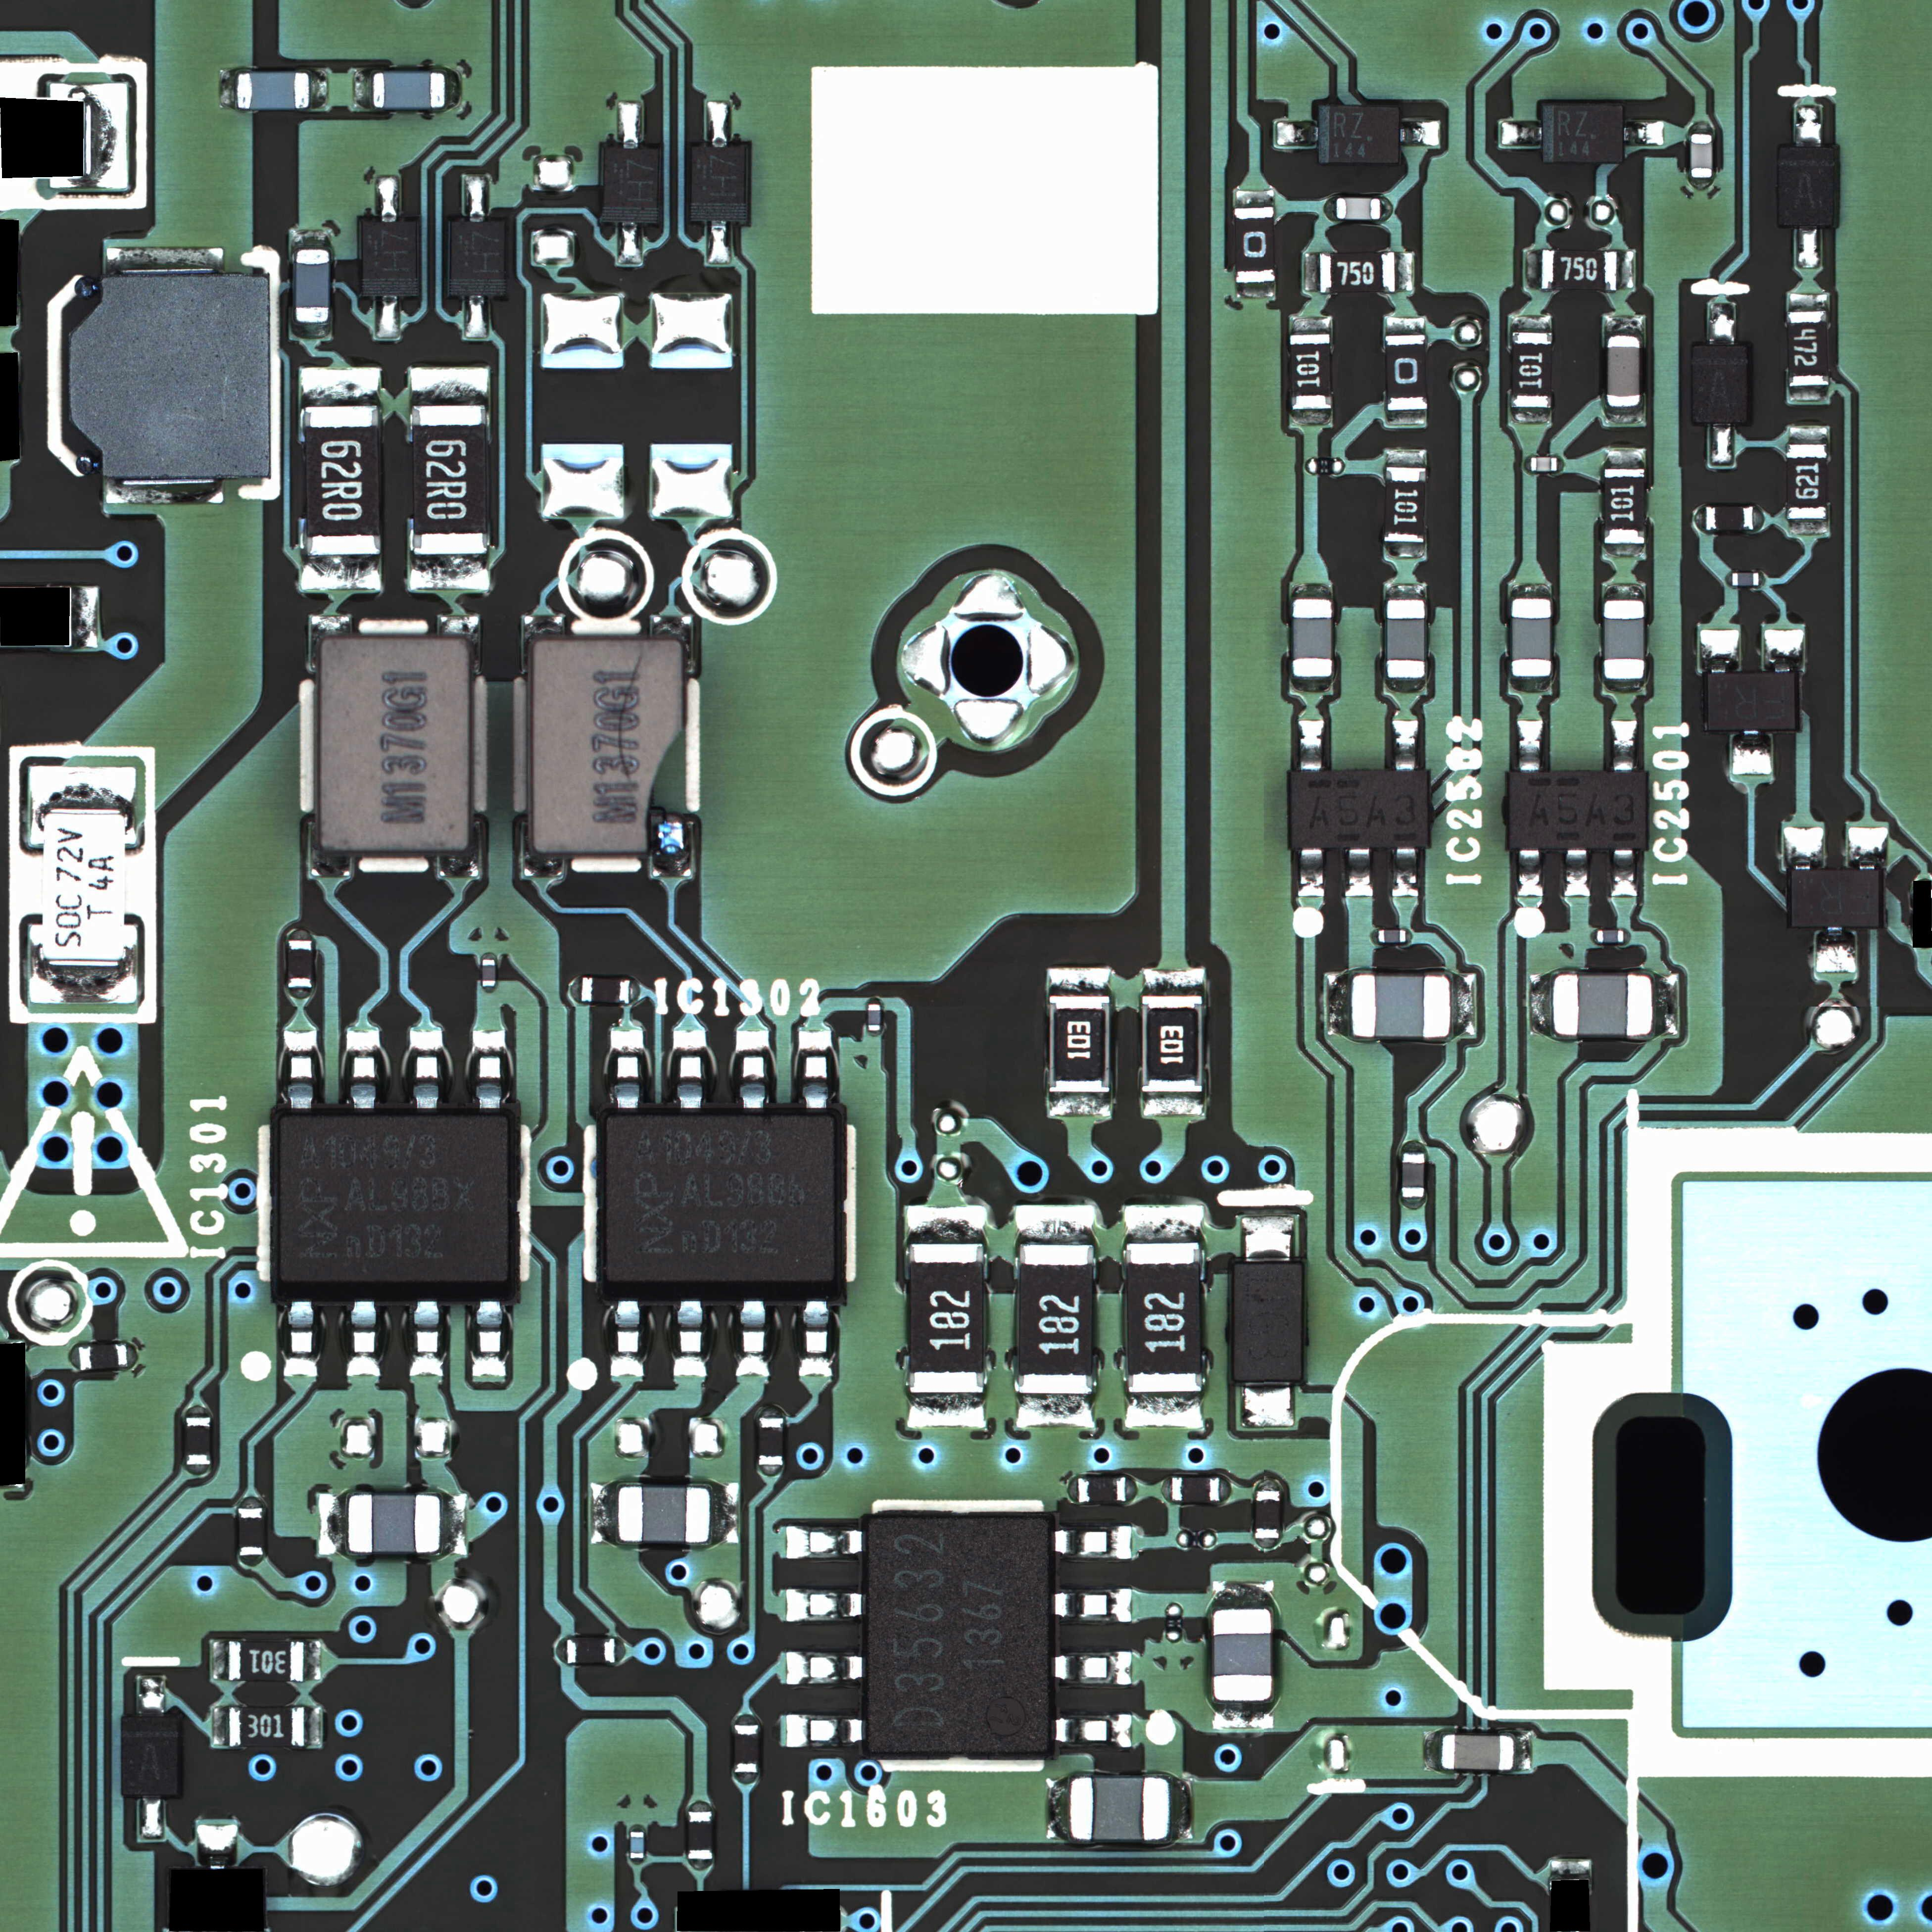Package: (598, 1108, 846, 1300), (271, 1108, 518, 1300), (867, 1516, 1051, 1753), (533, 639, 686, 851), (320, 637, 469, 851), (44, 814, 124, 961), (304, 405, 380, 556), (1017, 1244, 1093, 1394), (412, 405, 488, 554), (911, 1244, 984, 1392), (1127, 1244, 1200, 1392), (1509, 771, 1645, 849), (1290, 771, 1426, 849), (1235, 1263, 1302, 1380), (1069, 1776, 1169, 1840), (1141, 996, 1205, 1092), (1553, 975, 1652, 1035), (1352, 977, 1451, 1037), (1049, 996, 1109, 1092), (1214, 1610, 1272, 1700), (349, 1495, 441, 1552), (617, 1486, 709, 1543), (1707, 674, 1798, 731), (1790, 870, 1879, 927), (1320, 104, 1399, 165), (1543, 104, 1622, 163), (122, 1718, 179, 1798), (1778, 149, 1835, 228), (690, 147, 748, 221), (1693, 347, 1750, 423), (602, 149, 658, 223), (449, 221, 506, 295), (363, 221, 419, 295), (1603, 600, 1645, 679), (1292, 600, 1334, 678), (1511, 598, 1552, 678), (1385, 334, 1428, 410), (1385, 600, 1426, 678), (1385, 467, 1426, 543), (228, 1640, 303, 1681), (1235, 207, 1276, 281), (1541, 249, 1615, 290), (1513, 333, 1553, 407), (1290, 334, 1330, 409), (1605, 469, 1645, 543), (1787, 444, 1828, 518), (230, 1707, 304, 1746), (1320, 253, 1394, 292), (1789, 311, 1828, 386), (373, 71, 444, 108), (237, 73, 310, 108), (1442, 1734, 1513, 1769), (295, 248, 329, 322), (1608, 334, 1640, 407), (78, 1341, 129, 1371), (580, 977, 630, 1003), (1077, 1477, 1127, 1502), (186, 1417, 211, 1465), (688, 1812, 713, 1859), (734, 1725, 759, 1773), (1171, 1477, 1219, 1502), (1706, 506, 1753, 531), (288, 939, 311, 989), (568, 1638, 614, 1663), (239, 1507, 262, 1555), (1256, 1491, 1279, 1539), (761, 1417, 782, 1465), (1338, 196, 1380, 219), (1403, 1154, 1424, 1196), (1691, 134, 1713, 177), (481, 959, 495, 987), (630, 1831, 644, 1859), (867, 1003, 881, 1031), (1378, 931, 1407, 943), (1530, 458, 1557, 471), (1734, 573, 1759, 586), (1598, 931, 1622, 943)
Solder: (28, 766, 136, 812), (28, 961, 138, 1005), (90, 83, 127, 191), (648, 812, 699, 879), (906, 1205, 987, 1244), (1014, 1205, 1095, 1244), (794, 1028, 833, 1108), (407, 554, 490, 591), (409, 366, 490, 403), (299, 368, 380, 405), (1123, 1205, 1205, 1242), (734, 1028, 771, 1108), (784, 1651, 867, 1686), (798, 1300, 835, 1378), (299, 556, 380, 591), (1016, 1394, 1097, 1430), (520, 616, 566, 678), (345, 1028, 380, 1108), (409, 1028, 444, 1108), (609, 1028, 644, 1108), (1123, 1392, 1203, 1428), (786, 1713, 865, 1748), (784, 1525, 867, 1559), (649, 616, 697, 674), (518, 821, 566, 879), (283, 1030, 318, 1108), (347, 1300, 382, 1378), (908, 1392, 985, 1428), (1051, 1589, 1132, 1622), (1051, 1651, 1132, 1684), (472, 1028, 506, 1108), (672, 1028, 706, 1108), (610, 1300, 644, 1380), (784, 1589, 867, 1621), (472, 1300, 506, 1378), (672, 1300, 706, 1378), (1051, 1527, 1132, 1559), (1051, 1714, 1132, 1746), (285, 1300, 318, 1376), (736, 1302, 770, 1378), (410, 1300, 442, 1378), (439, 616, 479, 674), (1242, 1217, 1293, 1263), (1242, 1382, 1295, 1426), (310, 614, 350, 671), (310, 823, 350, 878), (441, 821, 479, 878), (711, 1483, 741, 1546), (1815, 927, 1856, 973), (317, 1493, 347, 1555), (1141, 968, 1205, 996), (1764, 628, 1805, 672), (1700, 630, 1741, 674), (198, 1822, 237, 1868), (441, 1493, 469, 1555), (1847, 826, 1888, 869), (1732, 731, 1771, 775), (1214, 1580, 1274, 1608), (73, 584, 99, 648), (1785, 826, 1824, 869), (1049, 968, 1111, 994), (591, 1483, 617, 1545), (1212, 1702, 1274, 1729), (1141, 1092, 1205, 1116), (1451, 973, 1476, 1037), (1327, 973, 1352, 1037), (1654, 971, 1677, 1037), (1046, 1776, 1069, 1840), (1047, 1093, 1109, 1116), (1299, 718, 1325, 770), (1530, 973, 1552, 1037), (136, 1675, 166, 1718), (1171, 1780, 1192, 1840), (1518, 720, 1543, 771), (1612, 720, 1637, 771), (1299, 849, 1325, 897), (1346, 849, 1373, 897), (1392, 849, 1419, 897), (1516, 849, 1543, 897), (1564, 849, 1591, 897), (1612, 849, 1638, 897), (1392, 720, 1417, 770), (1796, 104, 1822, 149), (465, 175, 490, 221), (375, 175, 400, 221), (619, 99, 642, 147), (1276, 122, 1318, 147), (1711, 303, 1736, 345), (1709, 423, 1734, 465), (1401, 120, 1440, 147), (1502, 120, 1541, 147), (706, 101, 729, 145), (617, 225, 642, 265), (464, 297, 488, 338), (375, 297, 400, 338), (140, 1798, 165, 1838), (1796, 228, 1821, 269), (708, 221, 731, 264), (1624, 120, 1663, 145), (1394, 253, 1415, 292), (1605, 449, 1647, 469), (352, 69, 372, 110), (1789, 292, 1829, 311), (1605, 315, 1644, 334), (310, 67, 327, 110), (1617, 248, 1635, 290), (1603, 407, 1645, 425), (1787, 518, 1829, 536), (292, 230, 333, 248), (1422, 1730, 1440, 1771), (1513, 407, 1552, 425), (1514, 1732, 1532, 1771), (1552, 1859, 1591, 1877), (446, 69, 462, 111), (1525, 248, 1541, 290), (1384, 317, 1426, 333), (1385, 449, 1428, 465), (1603, 543, 1645, 559), (1603, 584, 1645, 600), (1511, 678, 1553, 694), (219, 69, 235, 110), (290, 322, 331, 338), (304, 1640, 320, 1681), (212, 1640, 228, 1681), (306, 1706, 322, 1746), (1235, 283, 1276, 299), (1292, 317, 1332, 333), (1385, 543, 1426, 559), (1511, 582, 1552, 598), (1385, 678, 1426, 694), (1789, 426, 1829, 442), (212, 1707, 228, 1746), (1304, 253, 1320, 292), (1385, 410, 1424, 426), (1513, 315, 1552, 331), (1387, 582, 1426, 598), (1237, 189, 1274, 205), (1290, 410, 1330, 425), (1292, 582, 1332, 596), (1605, 679, 1645, 694), (1292, 679, 1330, 694), (1790, 387, 1828, 402), (67, 1341, 80, 1373), (1219, 1476, 1231, 1504), (127, 1341, 138, 1371), (186, 1465, 211, 1477), (734, 1773, 759, 1785), (1380, 196, 1392, 221), (1323, 195, 1336, 219), (1254, 1477, 1279, 1490), (570, 977, 580, 1005), (616, 1637, 626, 1665), (1127, 1476, 1138, 1504), (1403, 1139, 1426, 1152), (556, 1638, 566, 1665), (757, 1467, 784, 1477), (1067, 1476, 1077, 1502), (1254, 1539, 1281, 1550), (1755, 504, 1766, 531), (186, 1405, 211, 1415), (239, 1557, 264, 1568), (759, 1405, 784, 1415), (734, 1713, 759, 1723), (1690, 179, 1714, 189), (1403, 1198, 1424, 1210), (1161, 1476, 1171, 1500), (1695, 506, 1706, 531), (632, 975, 640, 1003), (288, 989, 311, 1000), (239, 1495, 262, 1506), (690, 1859, 713, 1870), (1691, 120, 1711, 133), (288, 929, 313, 938), (688, 1801, 713, 1810), (1557, 455, 1566, 472), (1523, 455, 1530, 472), (1622, 929, 1631, 943), (1369, 929, 1378, 943), (1589, 929, 1596, 945), (1759, 571, 1766, 587), (1725, 571, 1732, 587), (481, 987, 495, 994), (869, 1031, 883, 1039), (1407, 929, 1414, 943), (481, 952, 495, 957), (630, 1824, 644, 1829), (867, 996, 881, 1001), (632, 1861, 644, 1867)
